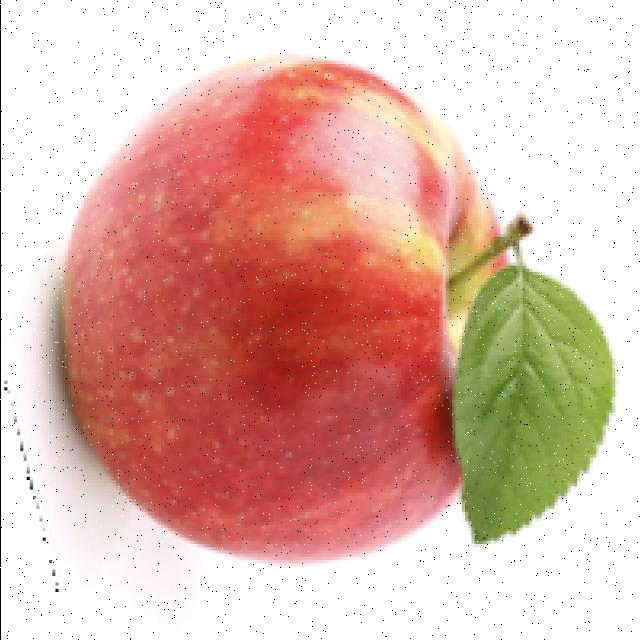apple: (3, 48, 621, 575)
